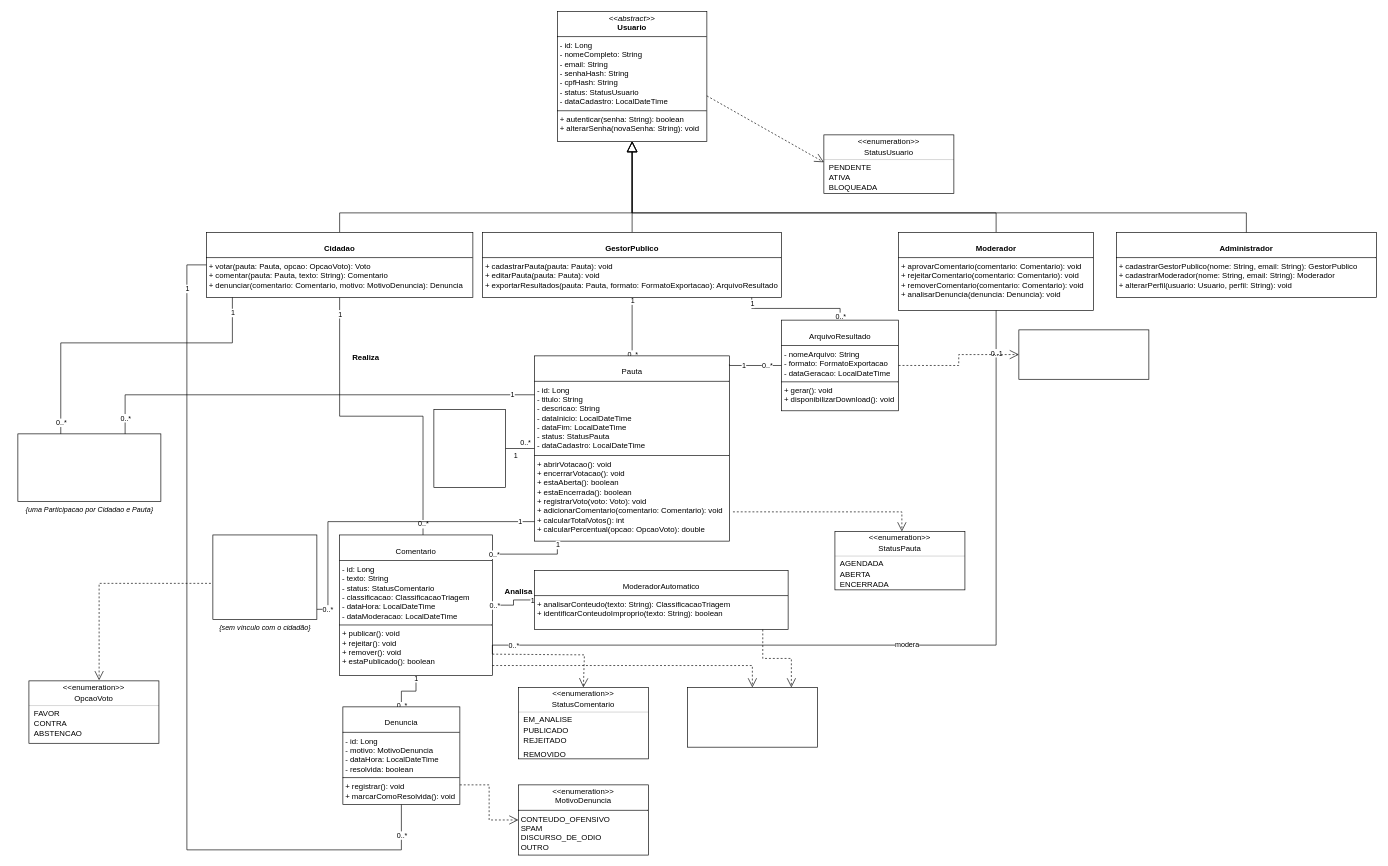
This 1388x866 diagram has some shape labels left out. Here are the shapes that lost their labels. From the top down, the centre of each, then its label:
point (1083, 354): <<enumeration>> FormatoExportacao CSV PDF
point (89, 467): Participacao - id: Long - dataHora: LocalDateTime + registrar(): void
point (469, 448): Categoria - id: Long - nome: String - descricao: String + atualizar(): void
point (264, 576): Voto - id: Long - opcao: OpcaoVoto + registrar(): void
point (752, 717): <<enumeration>> ClassificacaoTriagem ADEQUADO SUSPEITO IMPROPRIO
